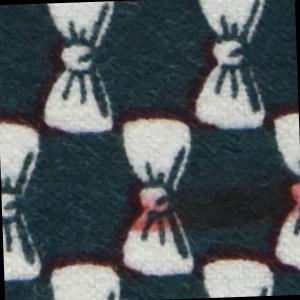Stain: (118, 175, 300, 240)
